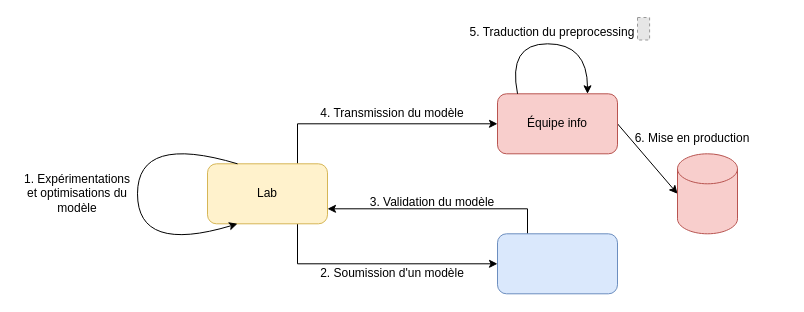
Image size: 804x312. Some labels were removed from this diagram. Grey dashed boxes stand in for pictures. Here are the shapes that lost their labels. From the top down, the centre of each, then its label:
(707,193): Serveurs
(557,263): Équipe métier
